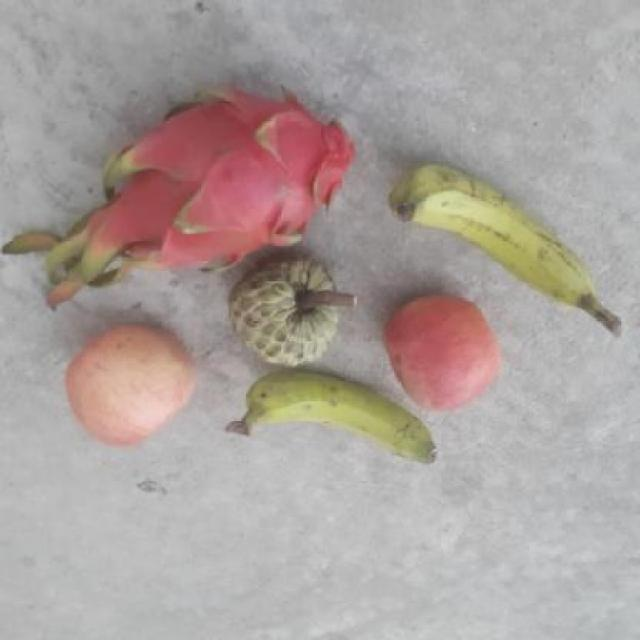apple: (66, 322, 200, 450), (380, 296, 502, 412)
banana: (377, 161, 621, 341), (226, 368, 439, 467)
dragon fruit: (89, 88, 353, 274)
sugar apple: (227, 252, 342, 370)
